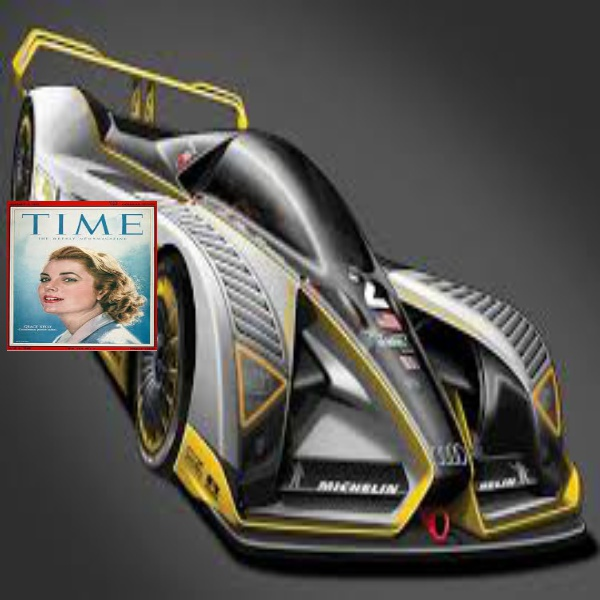time_cover: (5, 198, 159, 357)
